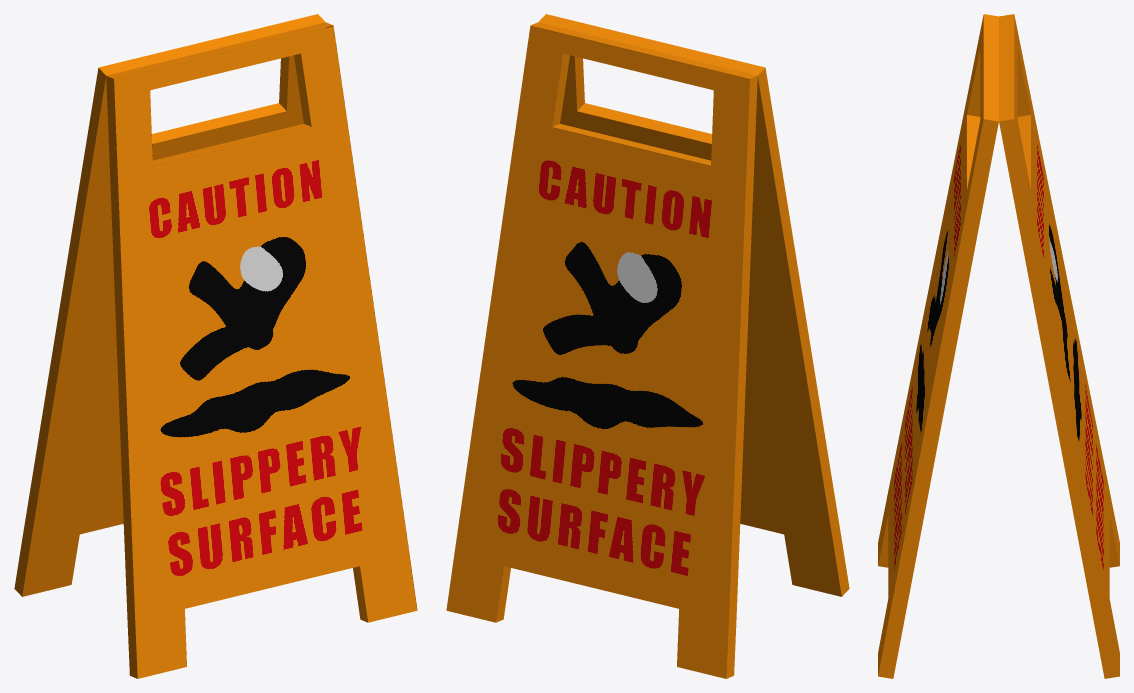
Rendered from SlipSign.fbx.
3 renders of one model, left to right at view 1: azimuth 30°, elevation 25°; view 2: azimuth 150°, elevation 25°; view 3: azimuth 270°, elevation 25°, orthographic.
Visible parts, largest first — view 1: SlipSign; view 2: SlipSign; view 3: SlipSign.
Part boxes in pixels (x1,y1,x2,y2): SlipSign: [14, 14, 417, 678]; SlipSign: [446, 14, 849, 678]; SlipSign: [878, 14, 1119, 678].
Bounding box in the file's own units: 714 × 1355 × 545.
